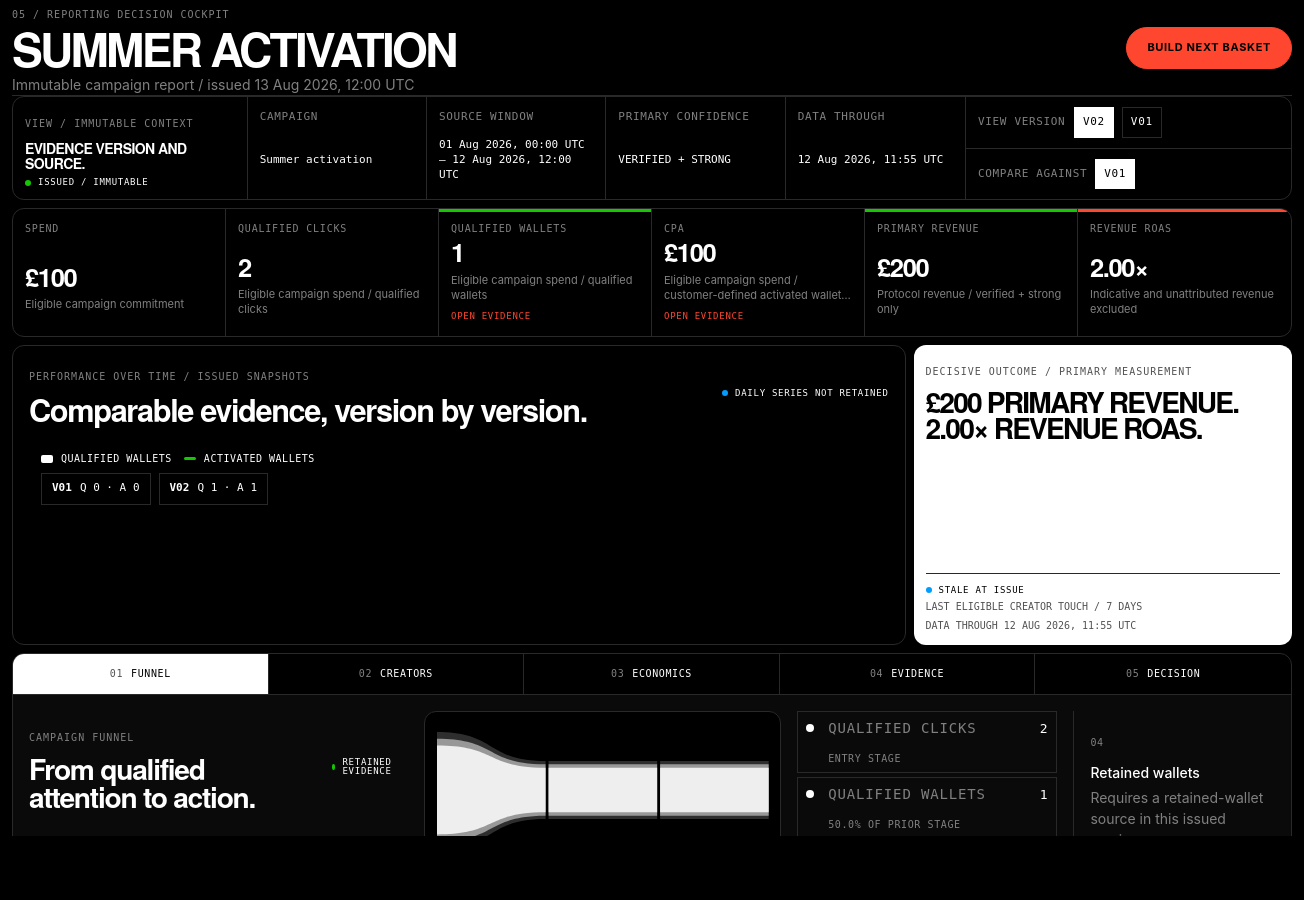
Test case: performance report › compares immutable versions without inventing missing benchmarks
Click the tab "05 Decision".
click(1163, 674)  # box [1035,654,1291,694]
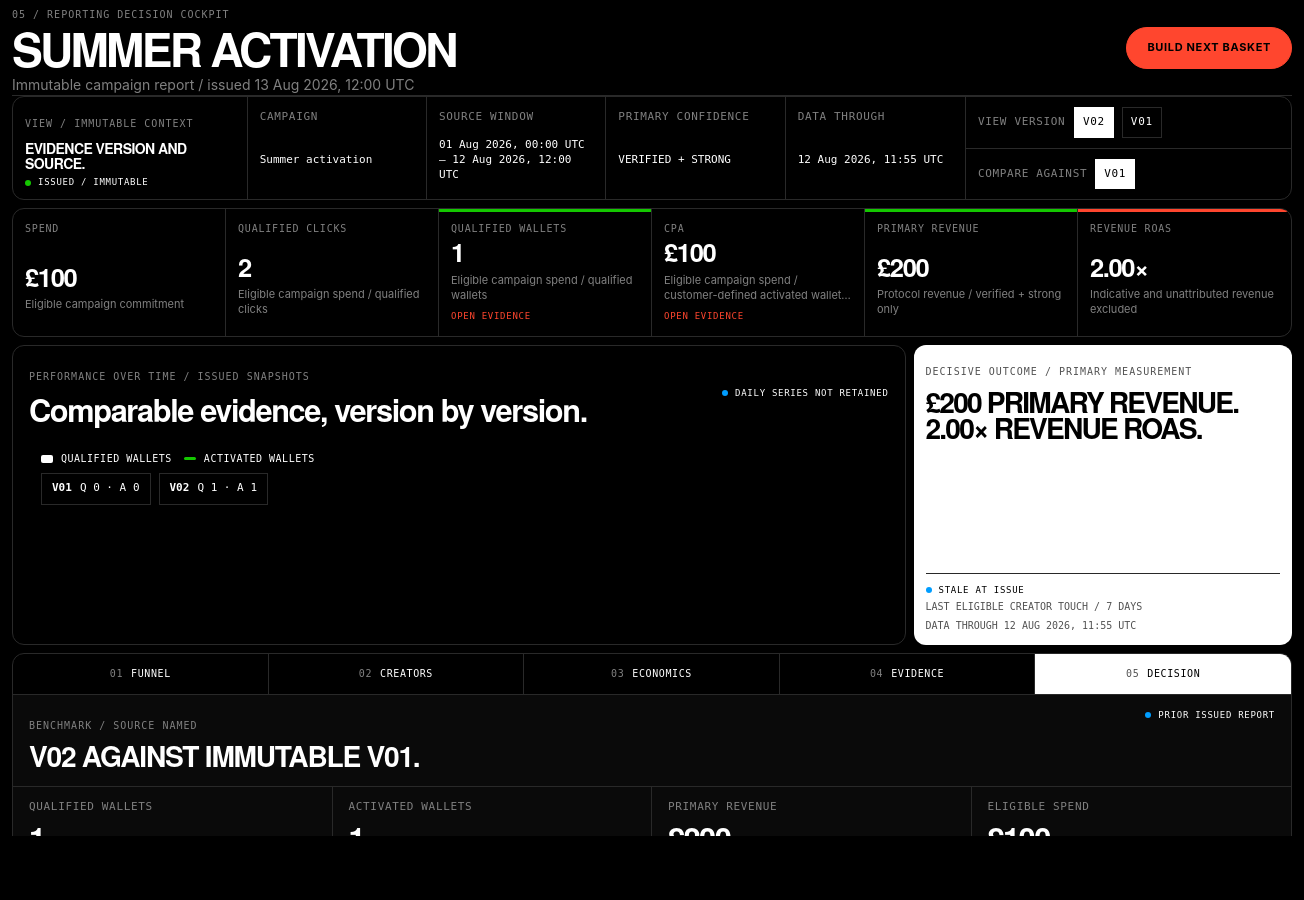
Result: the heading "V02 against immutable V01." is shown at [29,743,419,770]
Result: the text "PRIOR ISSUED REPORT" is shown at [1145,711,1275,720]
